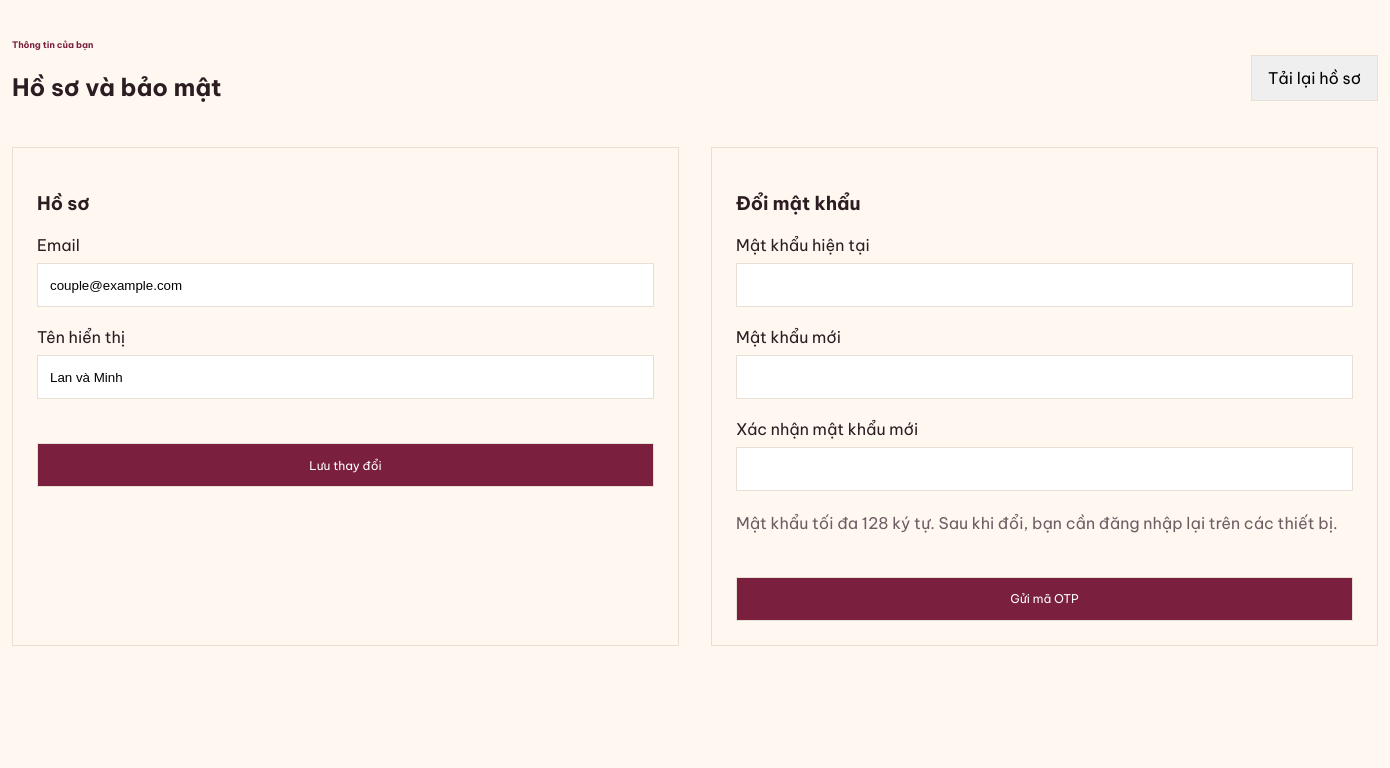
Test: account password OTP errors › preserves the form when password confirmation does not match
This screenshot has width=1390, height=768.
Type "Initial-password-123" into the password field labelled "Mật khẩu hiện tại". click: (1044, 285)
box: [736, 263, 1353, 307]
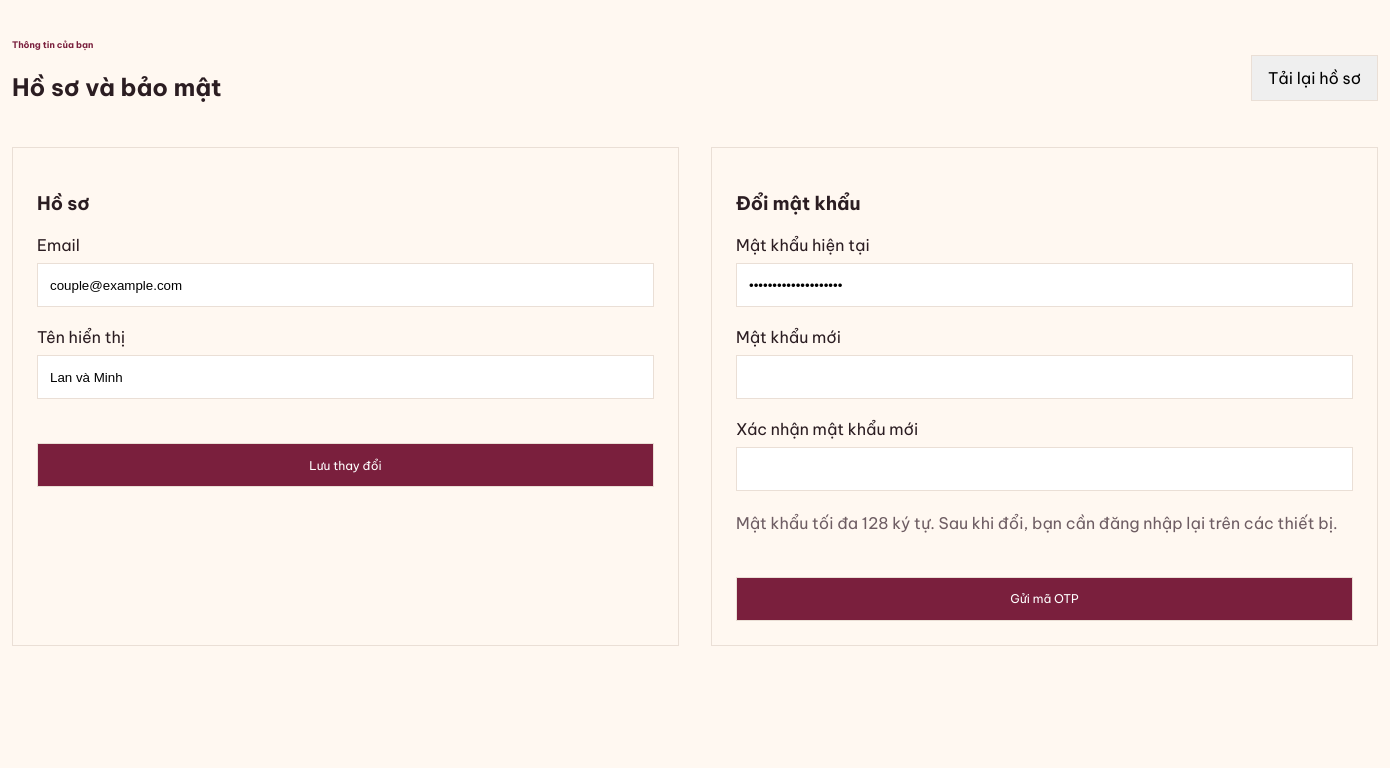
Type "Replacement-password-123" into the password field labelled "Mật khẩu mới". click: (1044, 377)
box: [736, 355, 1353, 399]
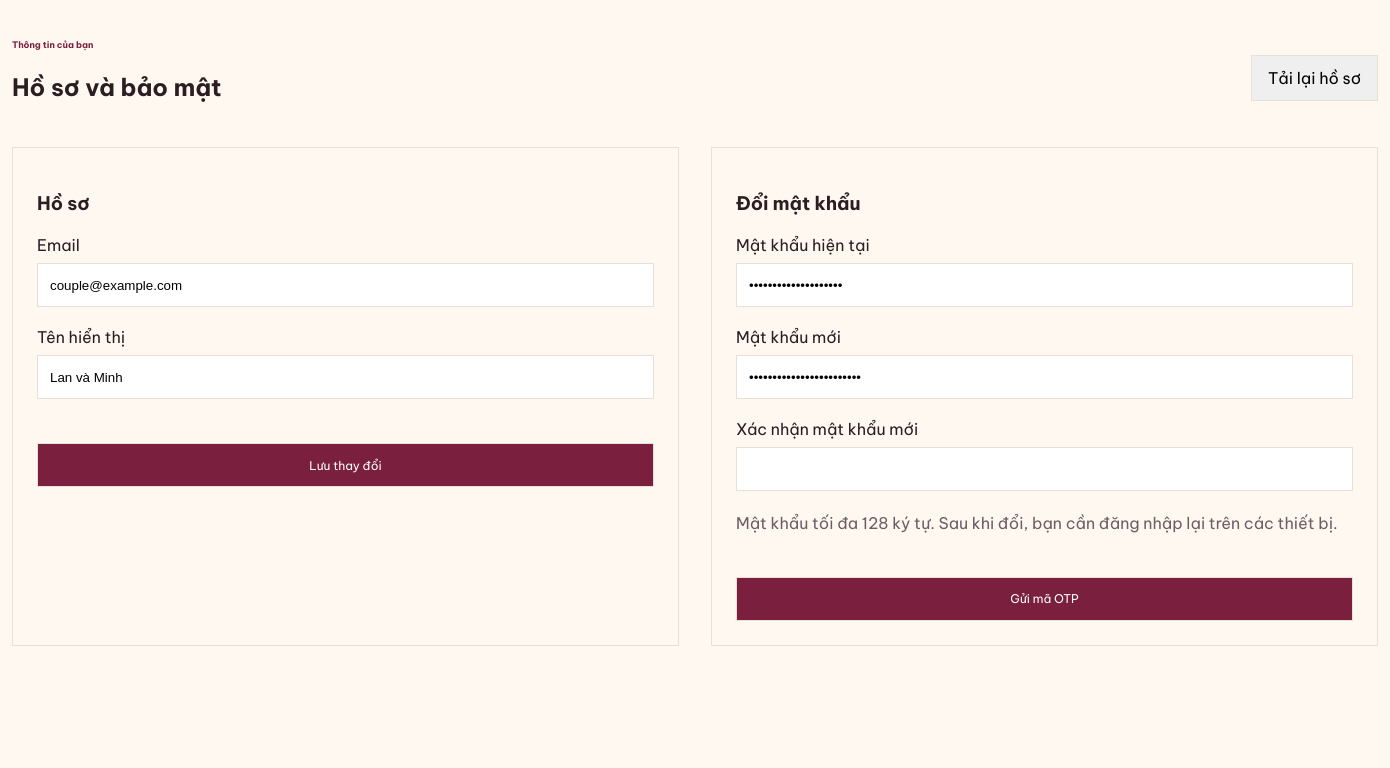
Type "Replacement-password-123" into the password field labelled "Xác nhận mật khẩu mới". click: (1044, 469)
box: [736, 447, 1353, 491]
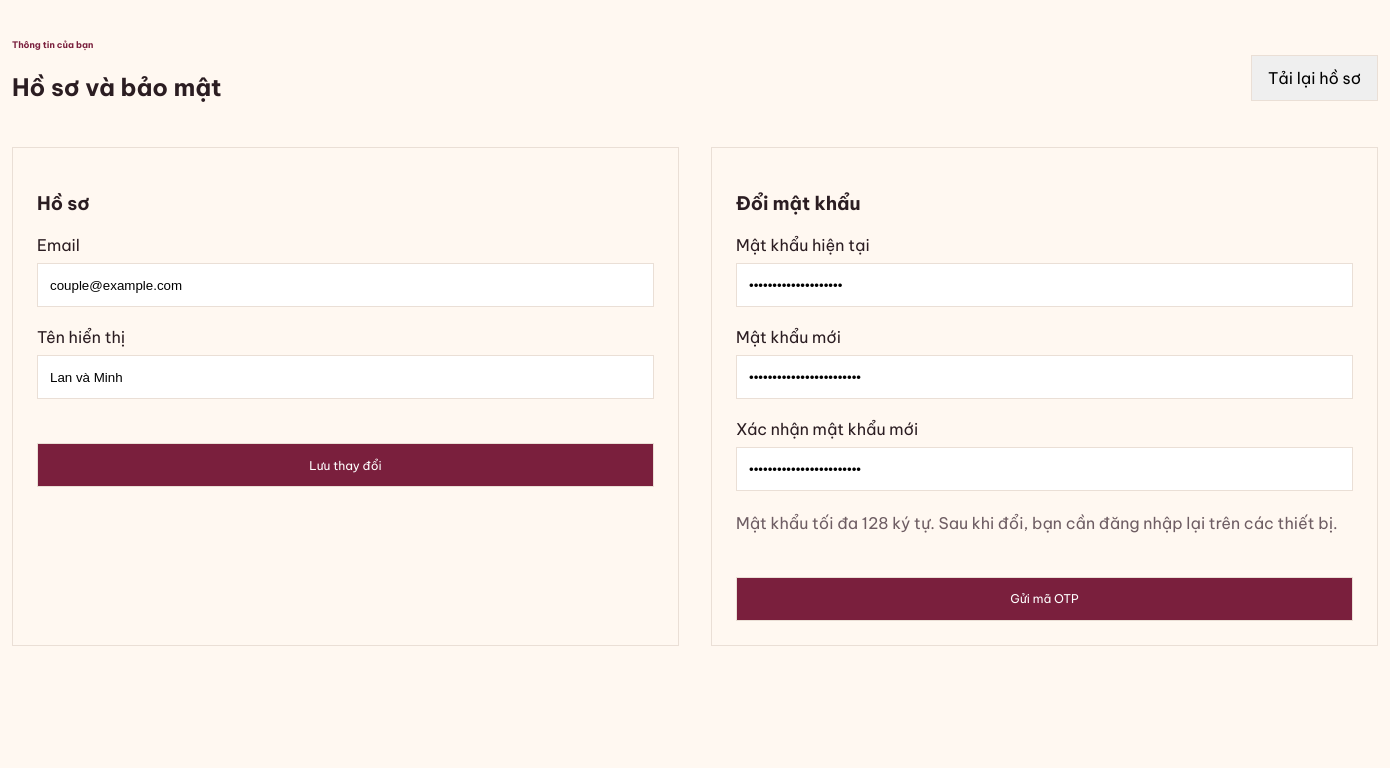
Type "different-password-123" into the password field labelled "Xác nhận mật khẩu mới". click: (1044, 469)
box: [736, 447, 1353, 491]
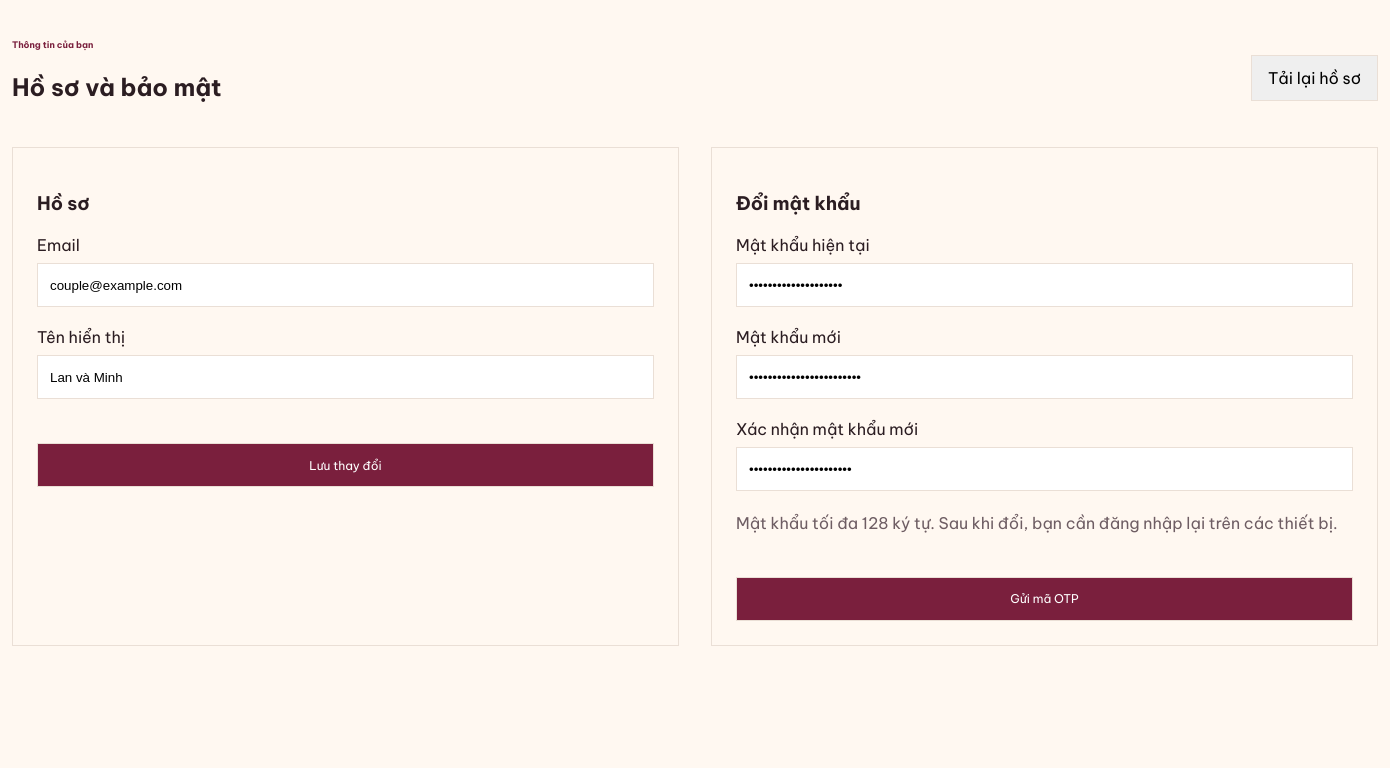
Click the button "Gửi mã OTP". click: (1044, 599)
box: [736, 577, 1353, 621]
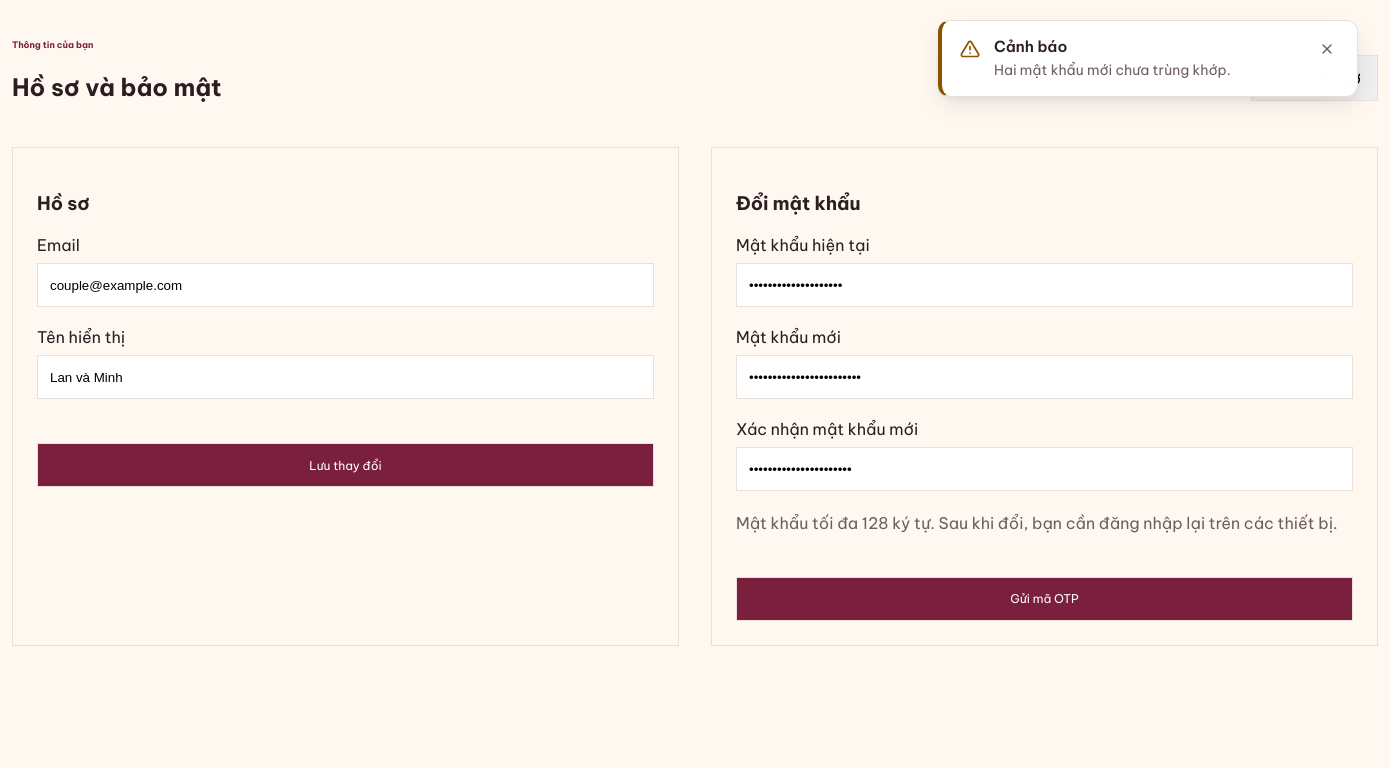
Now the message shows "Hai mật khẩu mới chưa trùng khớp", box [994, 61, 1231, 79]
